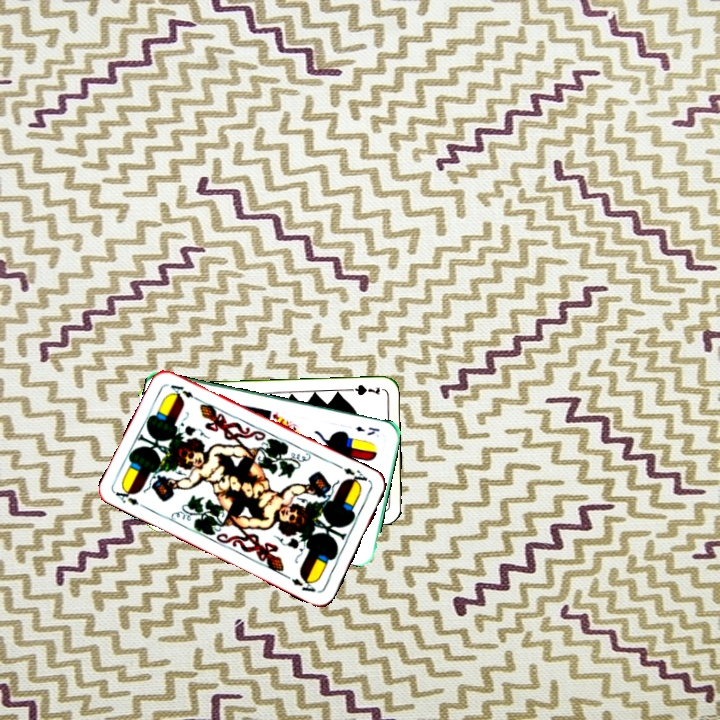EA: (111, 483, 150, 512), (339, 464, 373, 489)
EK: (351, 422, 382, 438)
G7: (342, 380, 382, 398)
